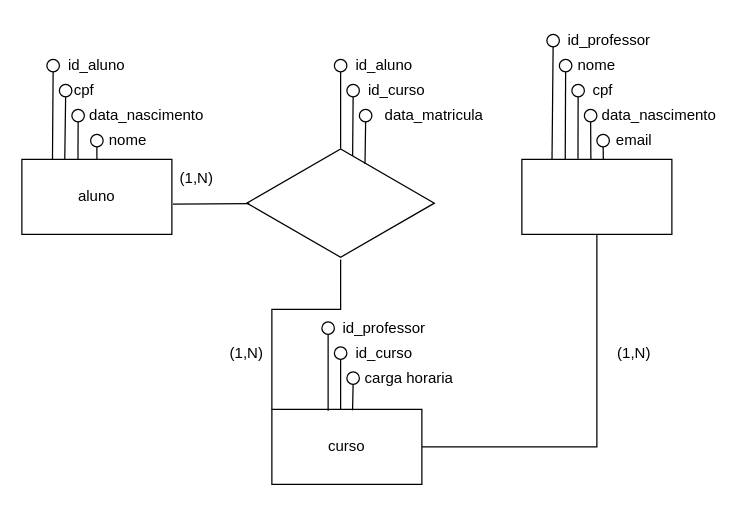
Some shapes in this 738 by 506 pixel diagram are drawn without their labels. The centre of each missing label's shape, as x and y in pixels:
matricula: point (340, 202)
professor: point (596, 196)
